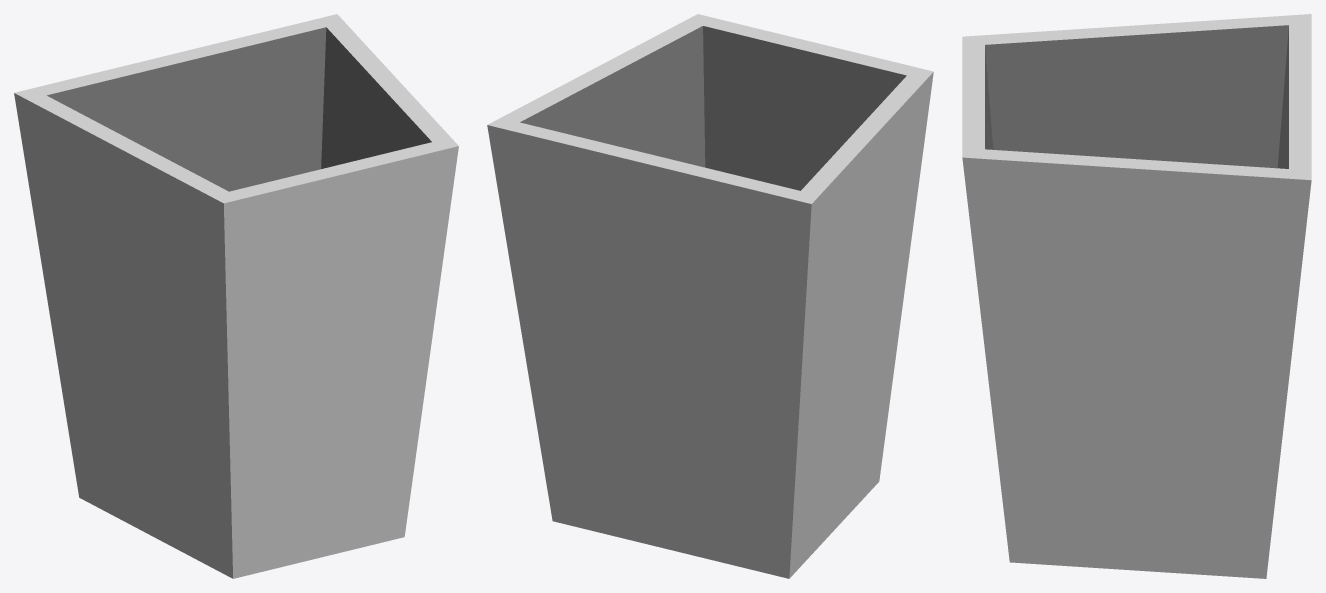
File: TrashBin_Small.fbx
The picture shows the model from 3 angles, left to right: view 1: azimuth 30°, elevation 25°; view 2: azimuth 150°, elevation 25°; view 3: azimuth 270°, elevation 25°; orthographic projection. The views are drawn at different scales.
Parts seen in each view (by area): view 1: TrashBin_Small; view 2: TrashBin_Small; view 3: TrashBin_Small.
Part boxes in pixels (box(x1,y1,x2,y2)): TrashBin_Small: box(14, 14, 458, 578); TrashBin_Small: box(487, 14, 933, 578); TrashBin_Small: box(962, 14, 1311, 578).
Bounding box in the file's own units: 31.05 × 36.69 × 27.58.
